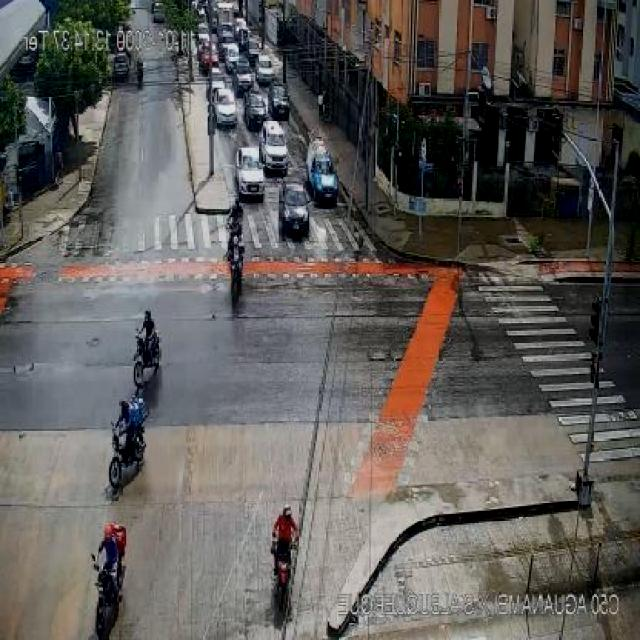Car: (277, 177, 311, 236), (234, 146, 266, 198), (259, 121, 290, 168), (212, 87, 240, 125), (244, 92, 269, 130), (270, 85, 291, 116), (233, 61, 254, 92), (255, 53, 274, 82), (208, 68, 226, 95), (111, 51, 130, 76), (224, 42, 240, 71)
Cycle: (90, 521, 126, 636), (107, 397, 149, 488), (268, 532, 301, 608), (132, 330, 164, 388), (223, 249, 245, 298), (223, 217, 242, 247)
Truck: (304, 138, 340, 202)
